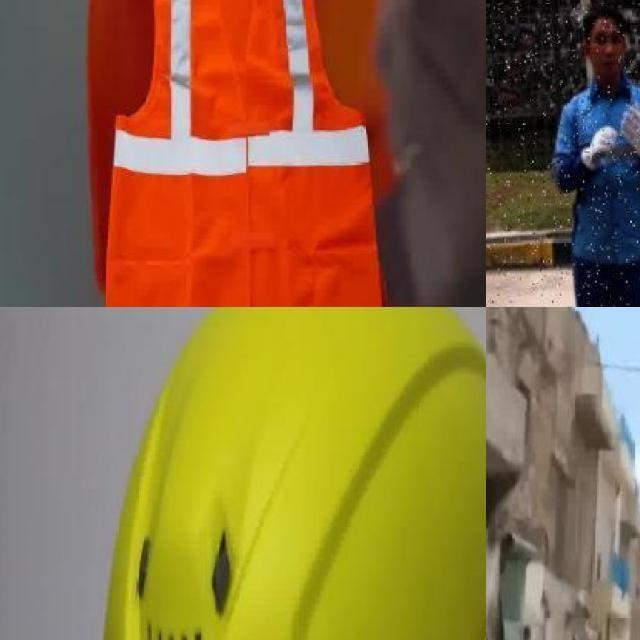apron: (578, 120, 626, 176), (618, 99, 640, 159)
